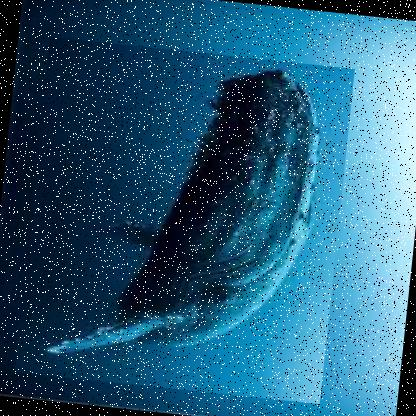blue_whale: (12, 36, 354, 404)
